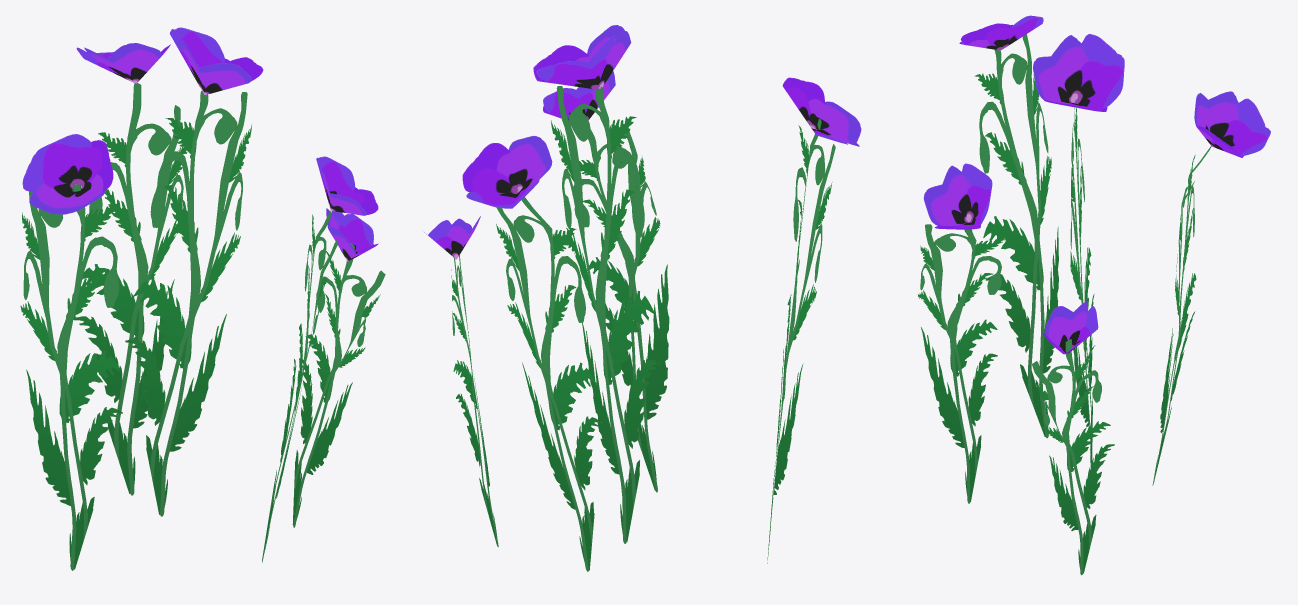
Rendered from flowerPurple.fbx.
3 views of the same model, side by side, from view 1: azimuth 30°, elevation 25°; view 2: azimuth 150°, elevation 25°; view 3: azimuth 270°, elevation 25° (orthographic). The views are drawn at different scales.
Parts seen in each view (by area): view 1: PT_Poppy_02_Purple; view 2: PT_Poppy_02_Purple; view 3: PT_Poppy_02_Purple.
Part boxes in pixels (box(x1,y1,x2,y2)): PT_Poppy_02_Purple: box(20, 27, 385, 570); PT_Poppy_02_Purple: box(424, 25, 861, 571); PT_Poppy_02_Purple: box(918, 15, 1270, 575).
Size of the model in its own units: 63.17 by 81.91 by 54.09.
